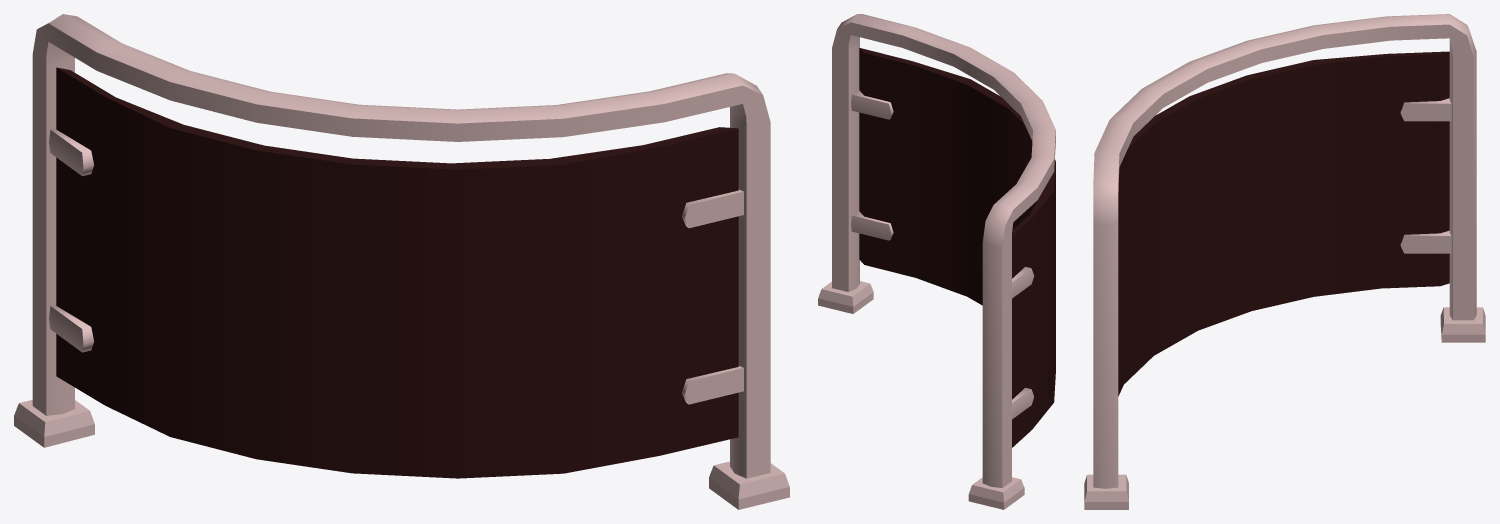
File: Module_Ss_asset_bar6.FBX
The picture shows the model from 3 angles, left to right: view 1: azimuth 30°, elevation 25°; view 2: azimuth 150°, elevation 25°; view 3: azimuth 270°, elevation 25°; orthographic projection. The views are drawn at different scales.
Visible parts, largest first — view 1: Module_Ss_asset_bar6; view 2: Module_Ss_asset_bar6; view 3: Module_Ss_asset_bar6.
Part boxes in pixels (bbox=[...]): Module_Ss_asset_bar6: bbox=[14, 14, 789, 509]; Module_Ss_asset_bar6: bbox=[818, 14, 1055, 509]; Module_Ss_asset_bar6: bbox=[1084, 14, 1485, 509].
Size of the model in its own units: 27.17 by 21.61 by 24.73.
